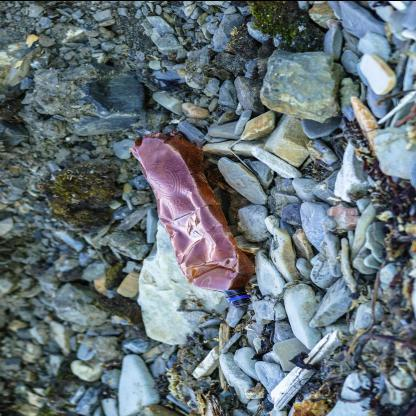plastik: (129, 132, 257, 308)
